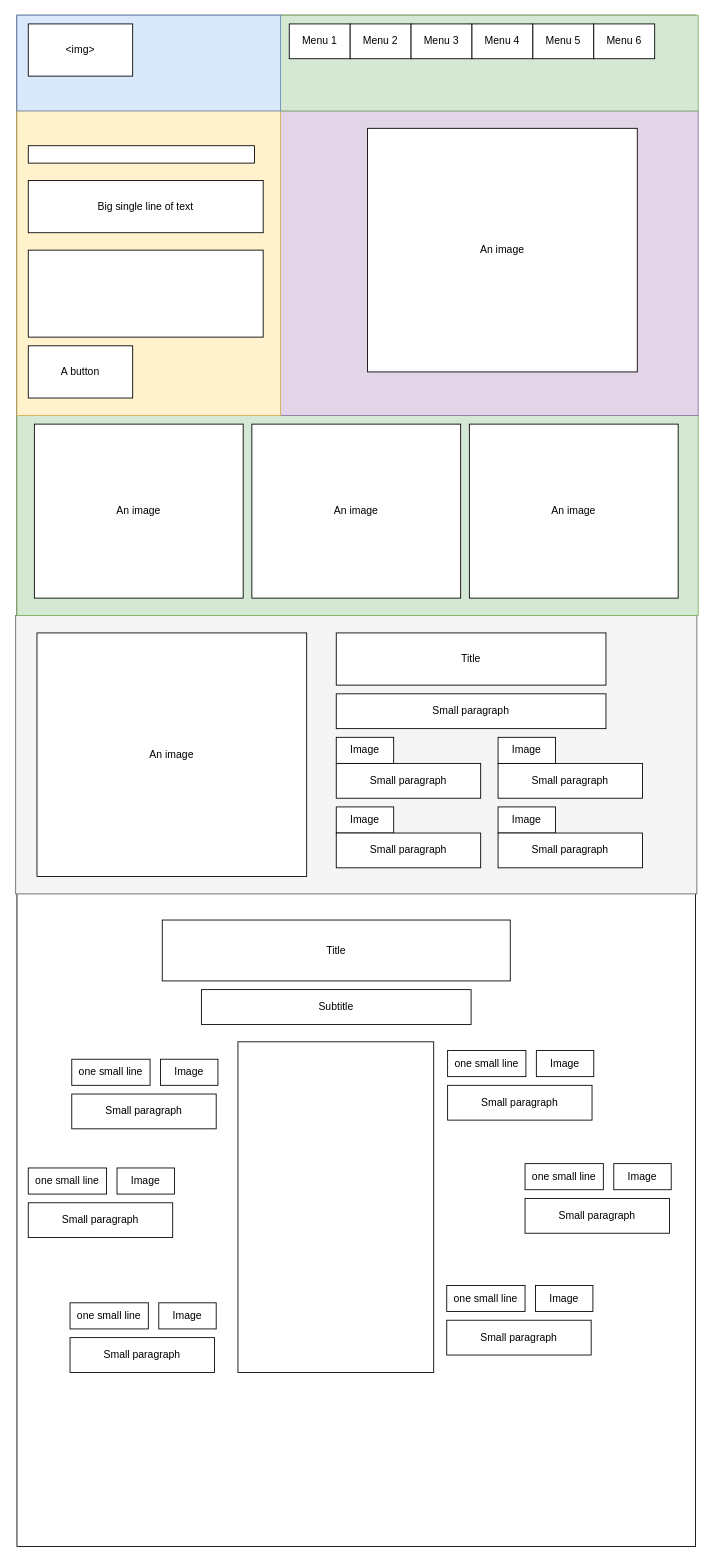
Image size: 713x1562. Some labels were removed from this diagram. Each missing label, with the centre of its shape:
"A paragraph" goes at (x=145, y=293).
"An image (a giff in background)" goes at (x=335, y=1206).
"Small single line of text" goes at (x=140, y=154).
